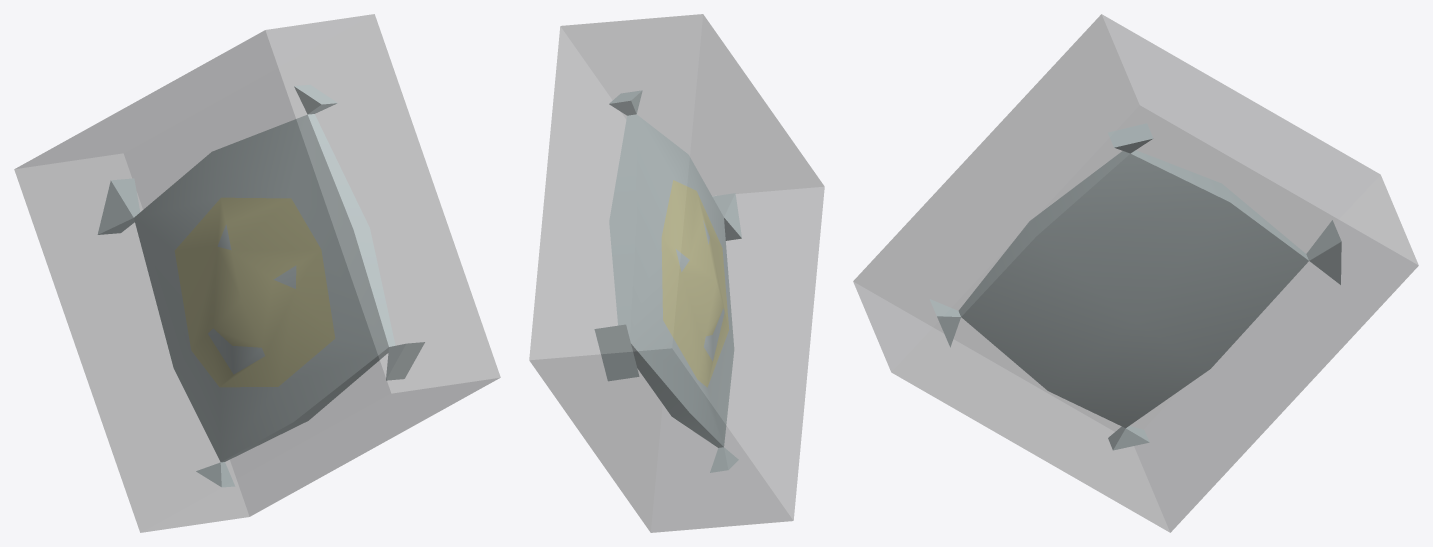
The model's file is weapon_pillow.fbx.
3 views of the same model, side by side, from view 1: azimuth 30°, elevation 25°; view 2: azimuth 150°, elevation 25°; view 3: azimuth 270°, elevation 25° (orthographic). The views are drawn at different scales.
Parts seen in each view (by area): view 1: simple, weapon5pillow; view 2: simple, weapon5pillow; view 3: simple, weapon5pillow.
Boxes of the visible parts, x1=… form: simple: x1=14, y1=14, x2=500, y2=532; weapon5pillow: x1=97, y1=84, x2=424, y2=487; simple: x1=529, y1=14, x2=824, y2=532; weapon5pillow: x1=594, y1=90, x2=741, y2=472; simple: x1=853, y1=14, x2=1418, y2=532; weapon5pillow: x1=929, y1=123, x2=1341, y2=450.
Bounding box in the file's own units: 1.42 × 2.95 × 2.97.
